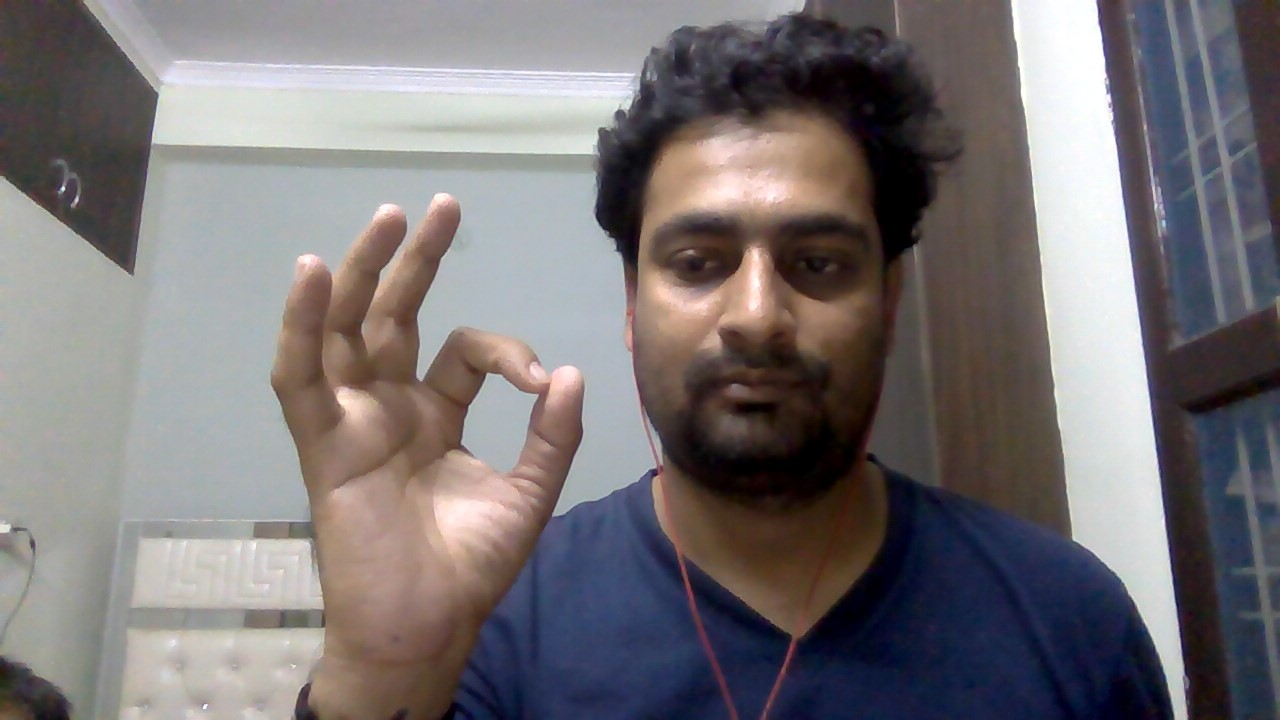Copy: (264, 191, 596, 656)
